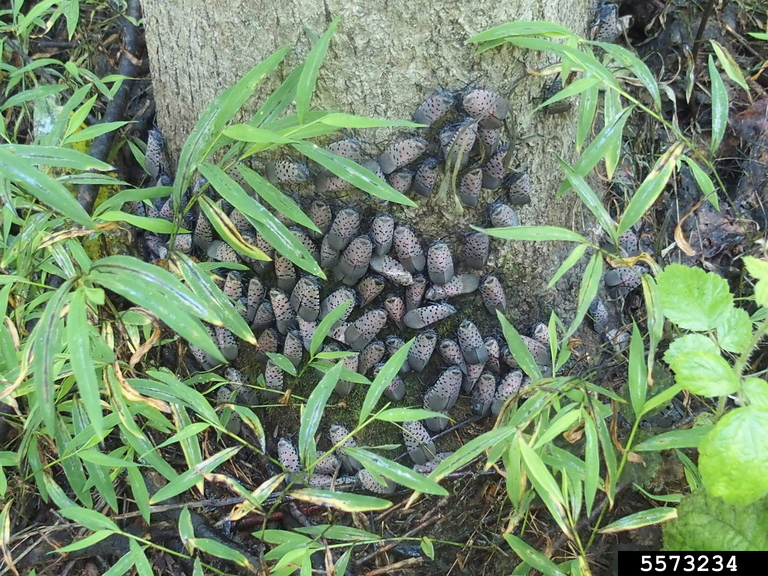adult: (435, 118, 511, 160), (347, 242, 406, 289), (404, 74, 446, 130), (243, 150, 310, 182), (322, 133, 378, 169), (400, 417, 448, 458), (450, 80, 501, 118), (509, 330, 558, 366), (393, 212, 425, 267), (377, 134, 430, 163), (323, 422, 363, 460), (436, 335, 474, 375), (139, 131, 171, 178), (607, 262, 648, 298), (372, 210, 399, 264), (468, 367, 495, 421), (478, 271, 511, 313), (338, 309, 386, 336), (269, 289, 297, 335), (317, 279, 349, 319), (423, 369, 468, 397), (607, 220, 643, 254), (215, 368, 258, 396), (482, 199, 522, 229), (501, 370, 527, 413), (407, 335, 435, 374), (336, 204, 359, 251), (170, 331, 208, 359), (297, 274, 321, 317), (426, 243, 458, 275), (484, 336, 512, 372), (464, 227, 494, 260), (456, 160, 482, 198), (192, 208, 218, 245), (214, 322, 245, 353), (359, 472, 393, 499), (588, 304, 622, 331), (405, 304, 453, 323), (212, 270, 241, 301), (272, 438, 300, 469), (305, 197, 332, 229), (433, 275, 473, 296), (415, 164, 441, 196), (206, 240, 240, 264), (158, 196, 198, 216), (287, 330, 305, 372), (512, 178, 539, 205), (390, 171, 412, 203), (278, 249, 299, 282), (363, 342, 386, 372), (228, 207, 257, 228), (269, 361, 290, 388), (457, 325, 478, 352), (386, 298, 402, 332), (354, 285, 381, 303), (409, 268, 423, 300), (249, 275, 262, 301)
